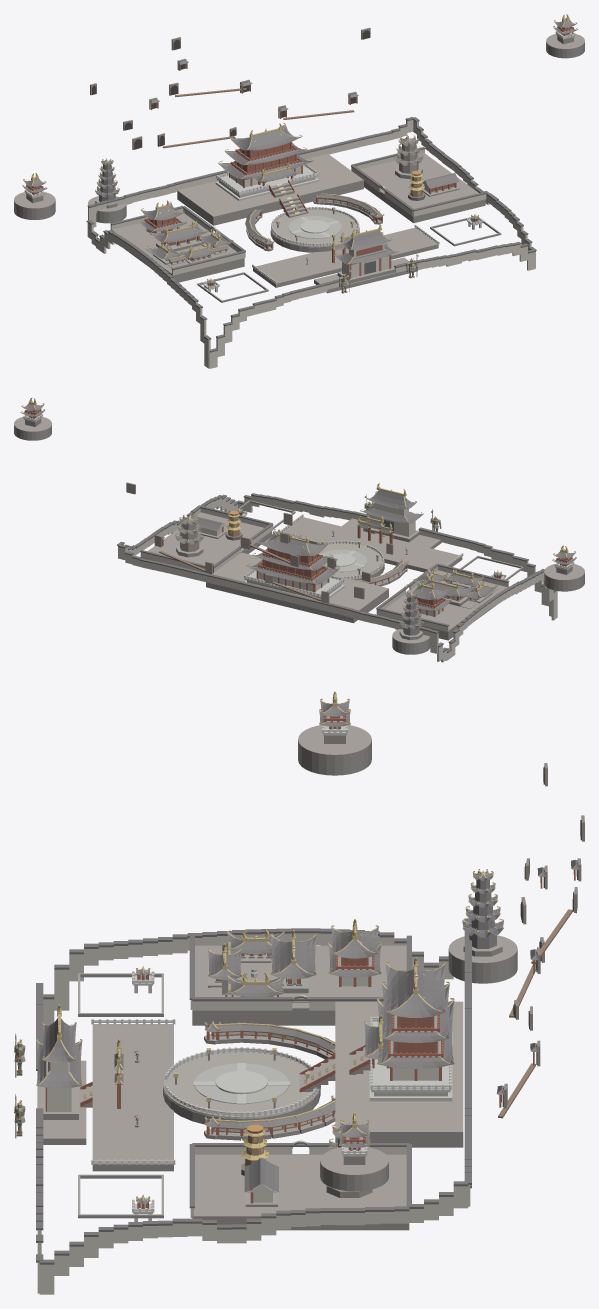
File: sect_baiqiao.glb
3 renders of one model, top to bottom at view 1: azimuth 30°, elevation 25°; view 2: azimuth 150°, elevation 25°; view 3: azimuth 270°, elevation 25°, orthographic. The views are drawn at different scales.
Visible parts, largest first — view 1: sect_baiqiao; view 2: sect_baiqiao; view 3: sect_baiqiao.
Boxes of the visible parts, left/top/right/bottom form: sect_baiqiao: left=14, top=14, right=584, bottom=368; sect_baiqiao: left=14, top=397, right=584, bottom=662; sect_baiqiao: left=14, top=691, right=584, bottom=1294.
Bounding box in the file's own units: 948 × 299 × 463.
